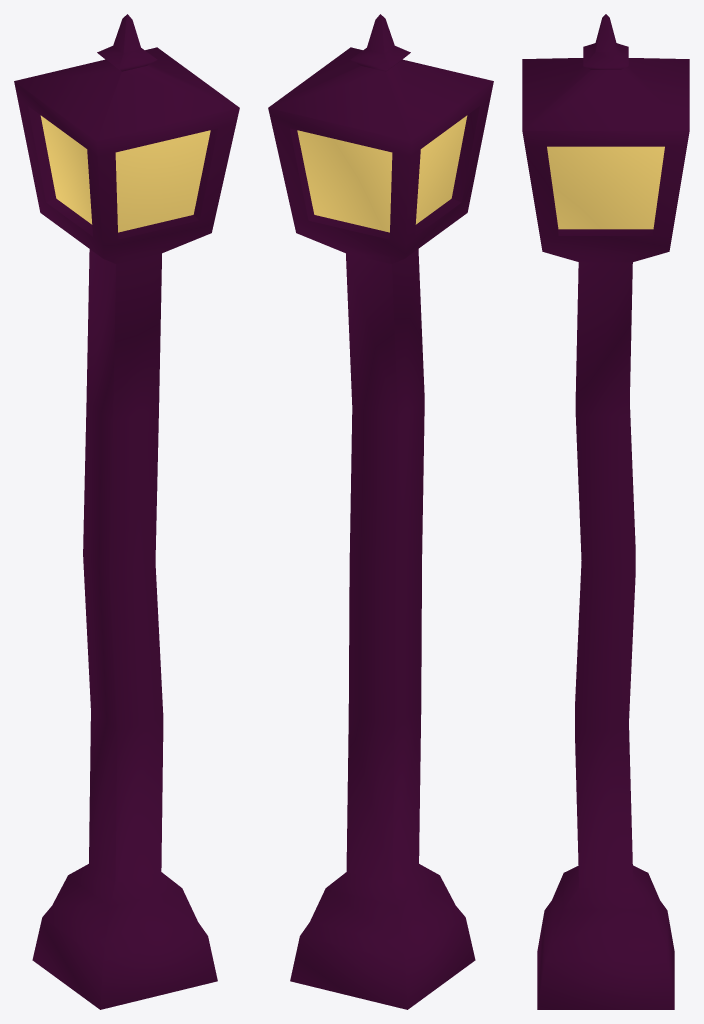
The model's file is tmg-waldo_envir_street-lamp.glb.
The picture shows the model from 3 angles, left to right: view 1: azimuth 30°, elevation 25°; view 2: azimuth 150°, elevation 25°; view 3: azimuth 270°, elevation 25°; orthographic projection.
Parts seen in each view (by area): view 1: envir_street-lamp; view 2: envir_street-lamp; view 3: envir_street-lamp.
Part boxes in pixels (left/top/right/bottom): envir_street-lamp: left=14, top=14, right=239, bottom=1009; envir_street-lamp: left=268, top=14, right=493, bottom=1009; envir_street-lamp: left=522, top=14, right=689, bottom=1009.
Size of the model in its own units: 0.623 by 3.98 by 0.623.
Materials: 2 (2 with a texture image).
